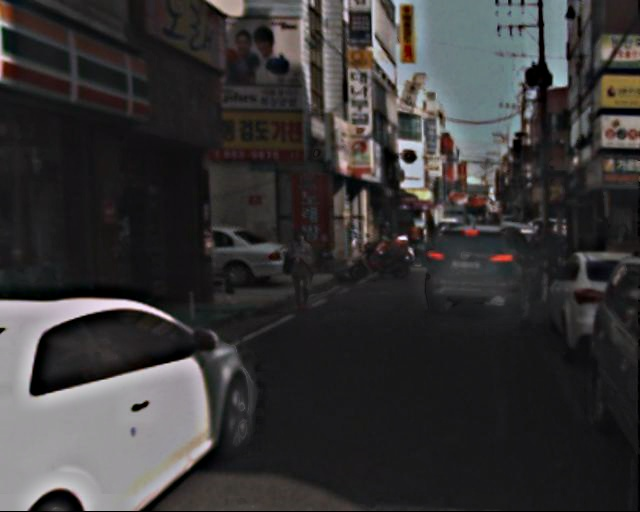person: (285, 226, 321, 313), (538, 221, 567, 292)
